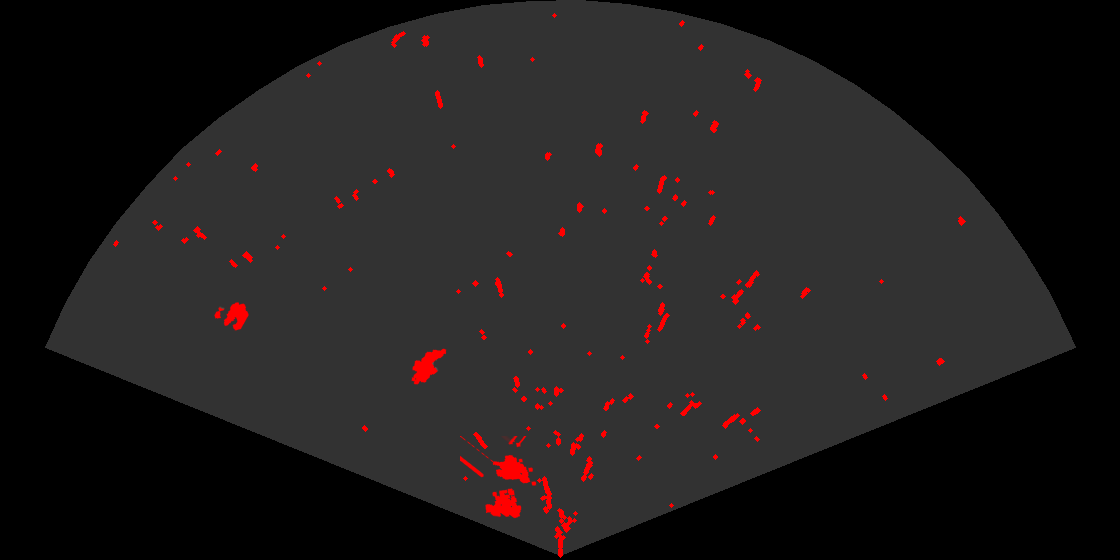AUV: (410, 347, 448, 386)
ball: (213, 301, 250, 332)
cage: (460, 436, 538, 520)
